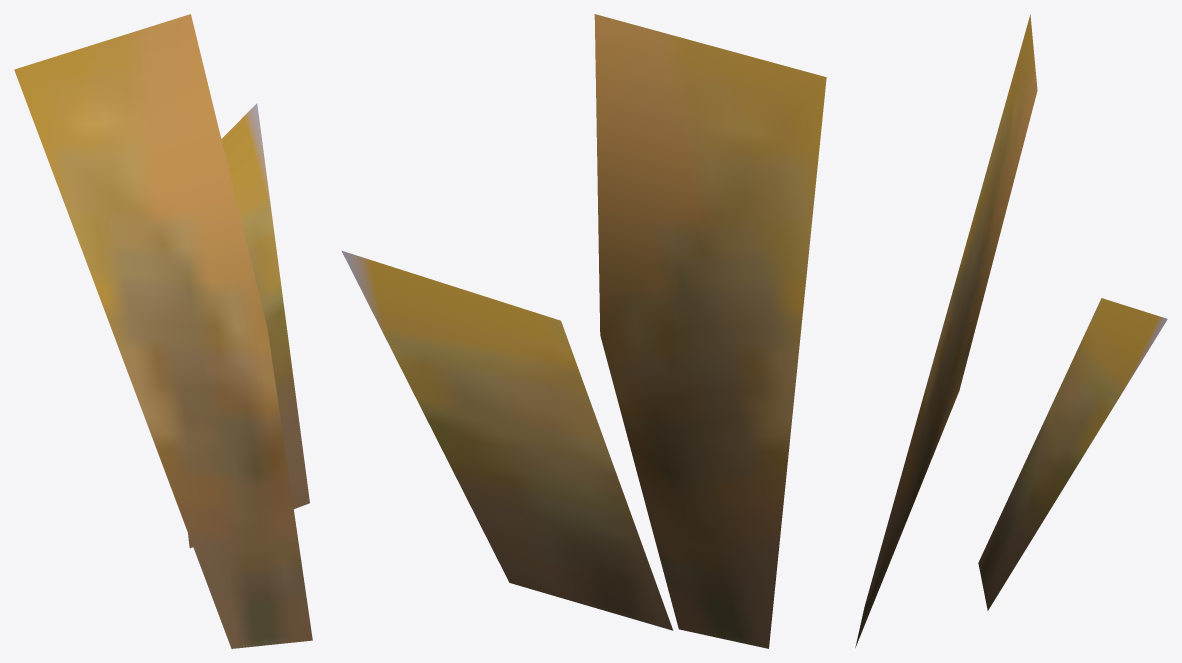
File: fg_grassA.dae
The picture shows the model from 3 angles, left to right: view 1: azimuth 30°, elevation 25°; view 2: azimuth 150°, elevation 25°; view 3: azimuth 270°, elevation 25°; orthographic projection. The views are drawn at different scales.
Parts seen in each view (by area): view 1: fg_grassA; view 2: fg_grassA; view 3: fg_grassA.
Boxes of the visible parts, x1,y1,x2,y2 form: fg_grassA: [14, 14, 312, 648]; fg_grassA: [341, 14, 826, 648]; fg_grassA: [855, 14, 1167, 647].
Bounding box in the file's own units: 11.97 × 20.54 × 10.68.
1 material, 1 textured.
